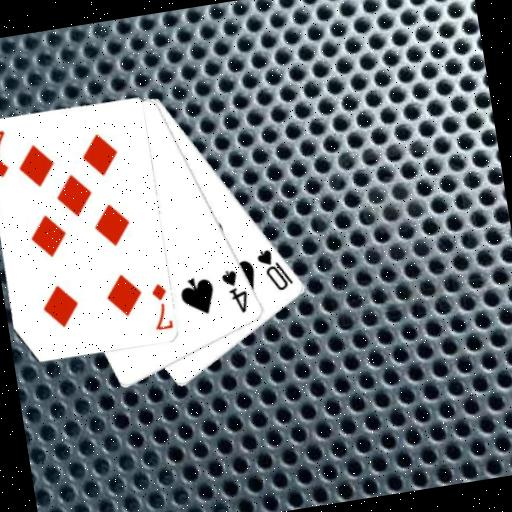10S: (252, 243, 296, 296)
4S: (217, 265, 252, 318)
7D: (146, 280, 173, 333), (0, 127, 13, 180)
